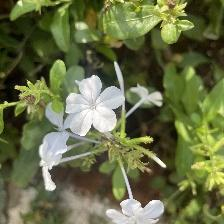chitrak: (63, 73, 123, 132), (40, 99, 71, 159), (106, 198, 162, 224)
